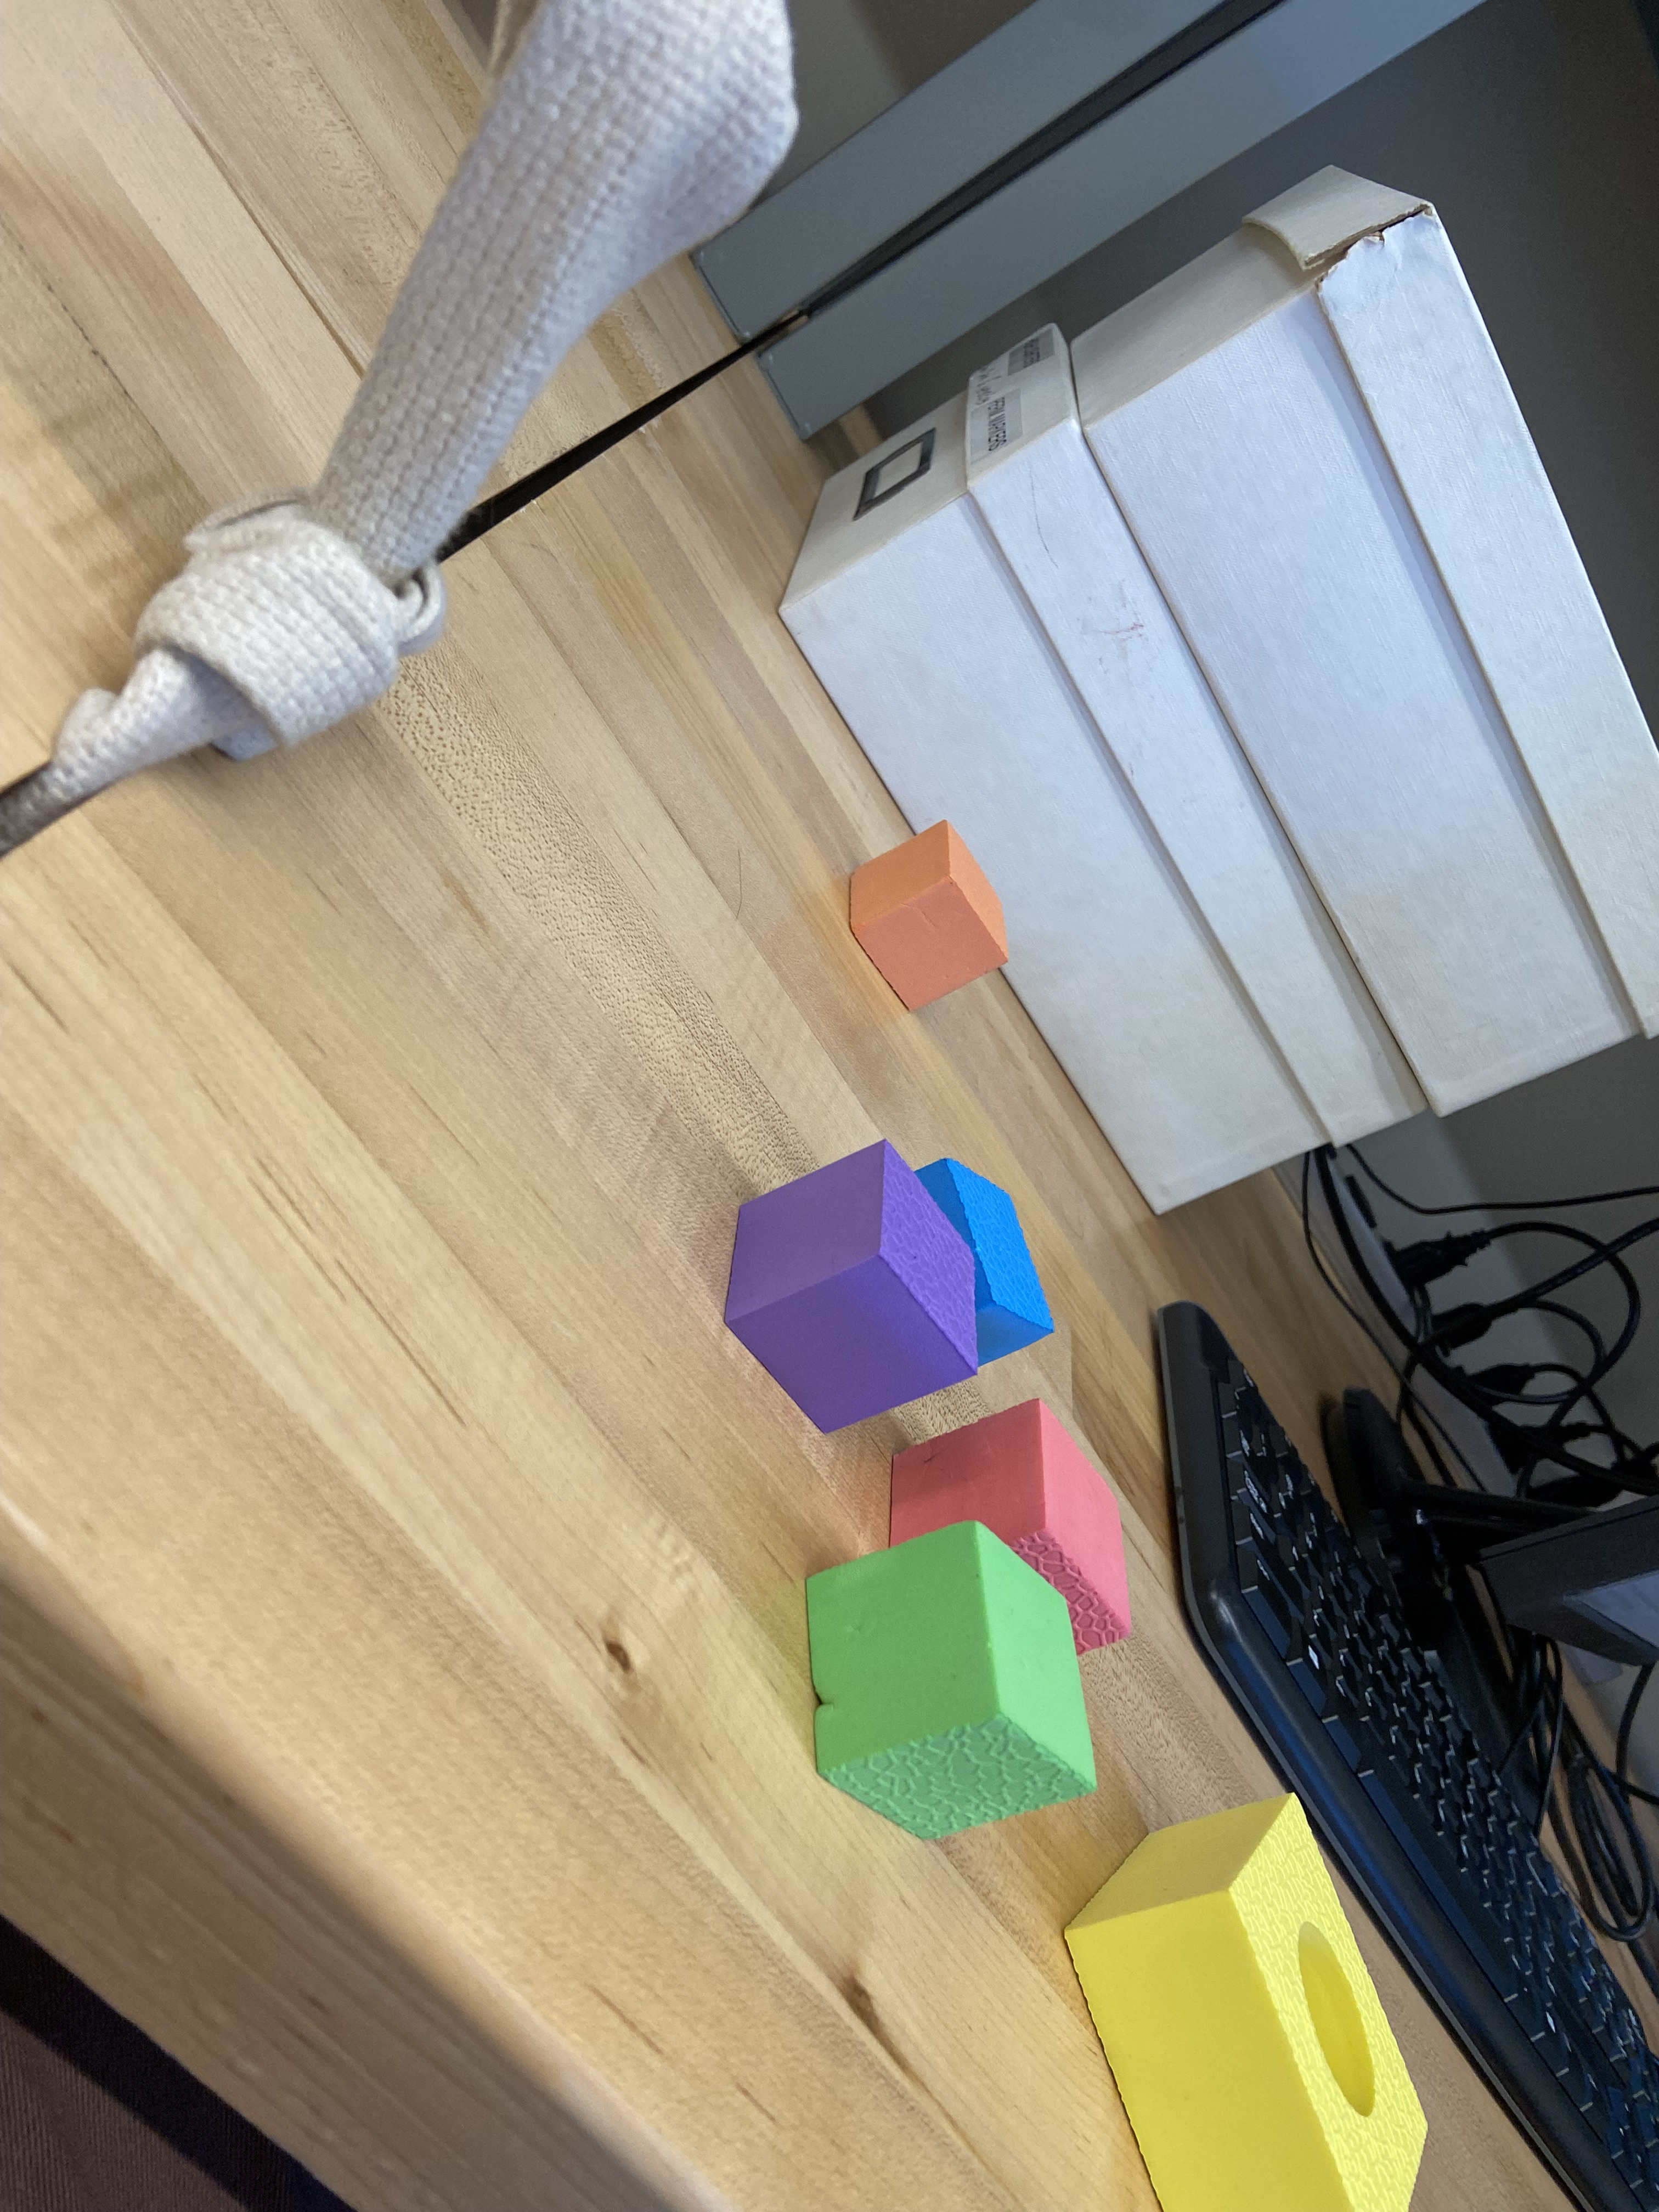Cube: (791, 1524, 1093, 1831), (718, 1141, 974, 1430), (877, 1413, 1136, 1641), (843, 813, 1004, 1019), (899, 1141, 1066, 1334)
